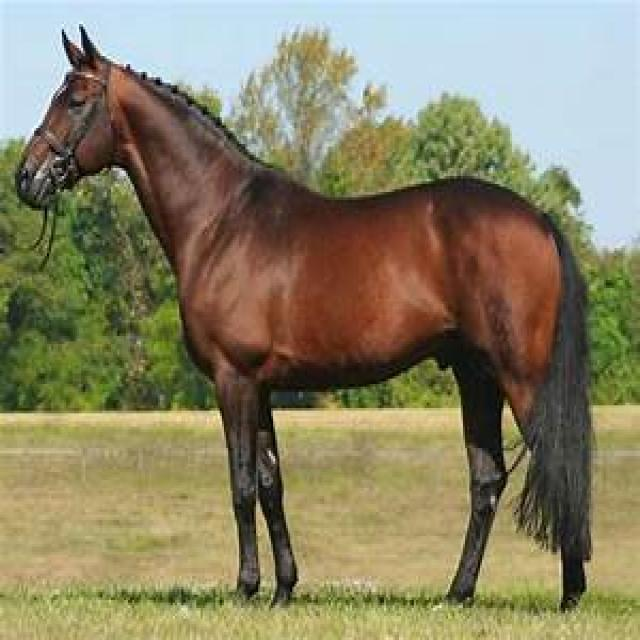horse: (17, 29, 595, 613)
